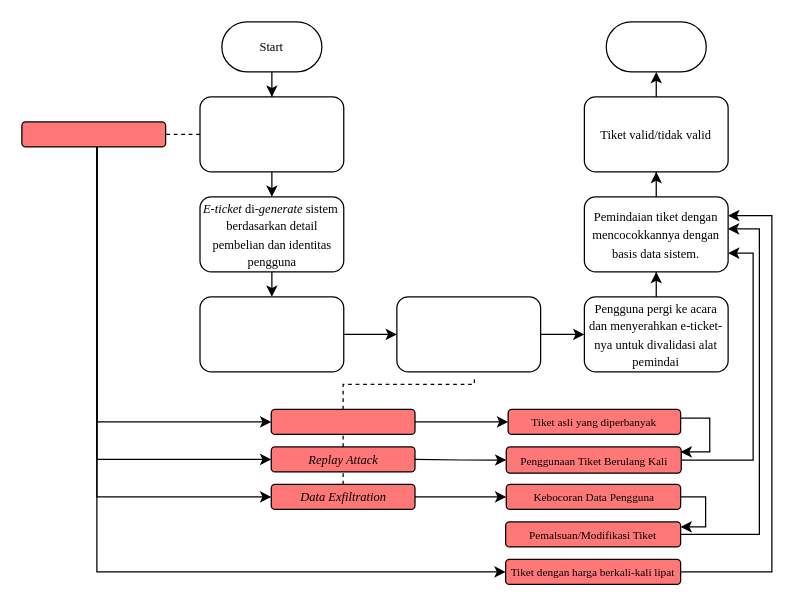
Some shapes in this 804 by 606 pixel diagram are drawn without their labels. Each missing label, with the centre of its shape:
Cloning Attack: the point at 342,421
E-ticket dikirimkan ke pengguna: the point at 271,334
End: the point at 655,46
Pengguna membeli e-ticket melalui website/aplikasi: the point at 271,134
Praktik Percaloan Tiket: the point at 93,134
waktu jeda potensi terjadi serangan masa rentan: the point at 468,334
